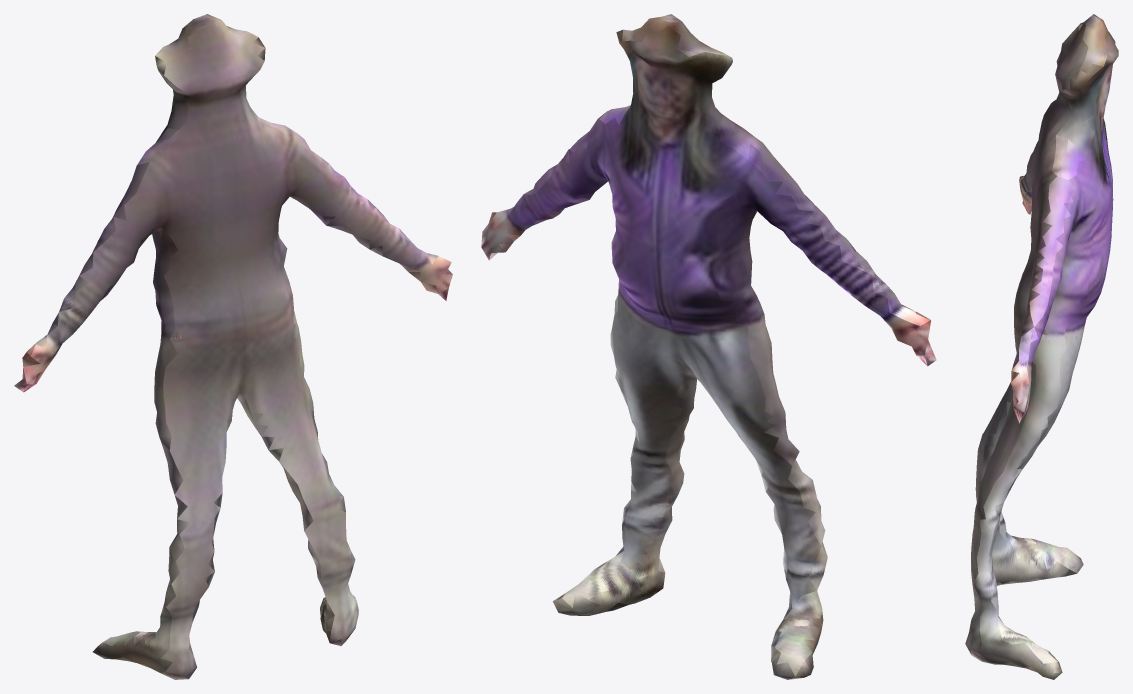
The picture shows the model from 3 angles, left to right: view 1: azimuth 30°, elevation 25°; view 2: azimuth 150°, elevation 25°; view 3: azimuth 270°, elevation 25°; orthographic projection. The views are drawn at different scales.
Visible parts, largest first — view 1: world; view 2: world; view 3: world.
Part boxes in pixels (x1,y1,x2,y2): world: [14, 14, 452, 679]; world: [481, 14, 936, 679]; world: [965, 14, 1118, 679].
Size of the model in its own units: 0.7356 by 0.9882 by 0.2272.
1 material, 1 textured.
